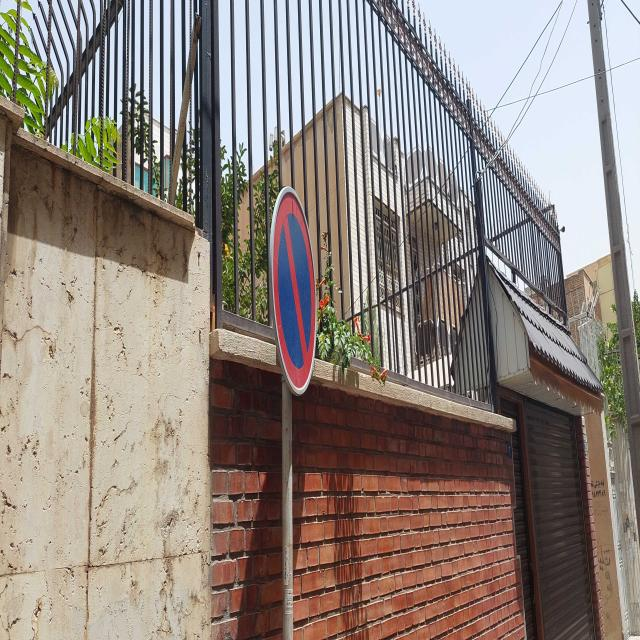forb_stopping: (271, 184, 317, 397)
